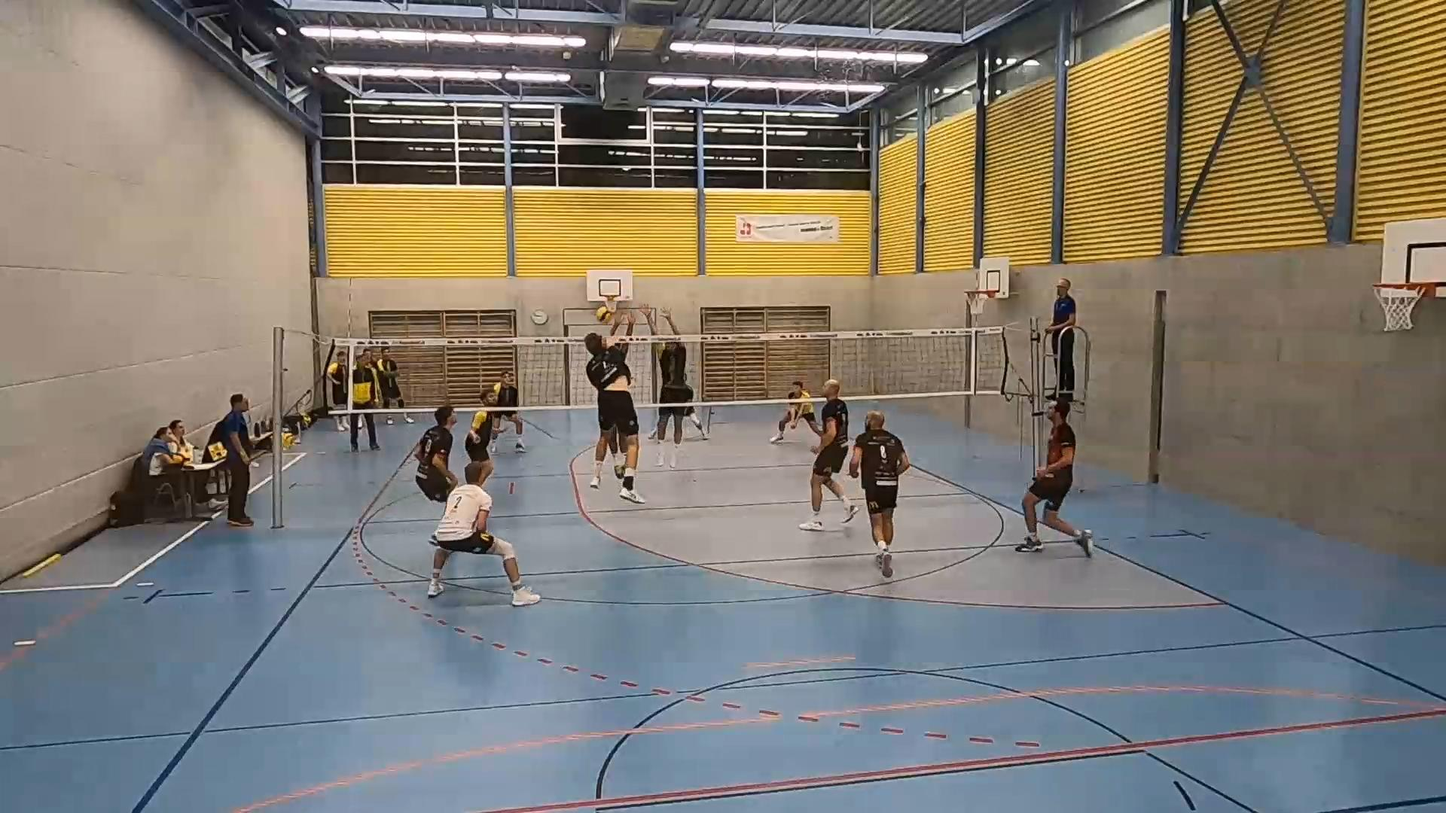attacco: (583, 315, 653, 509)
muro: (643, 300, 695, 474), (605, 307, 635, 363)
